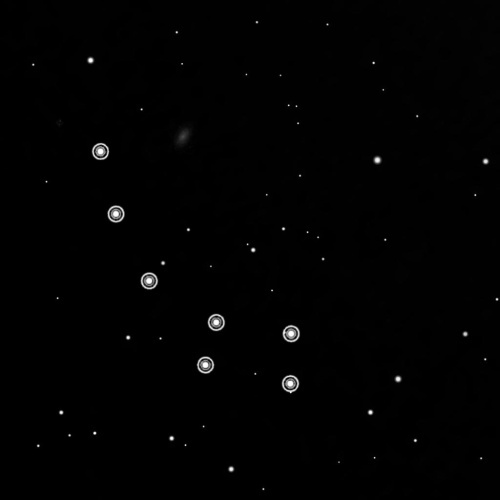ursa_minor: (87, 138, 306, 399)
